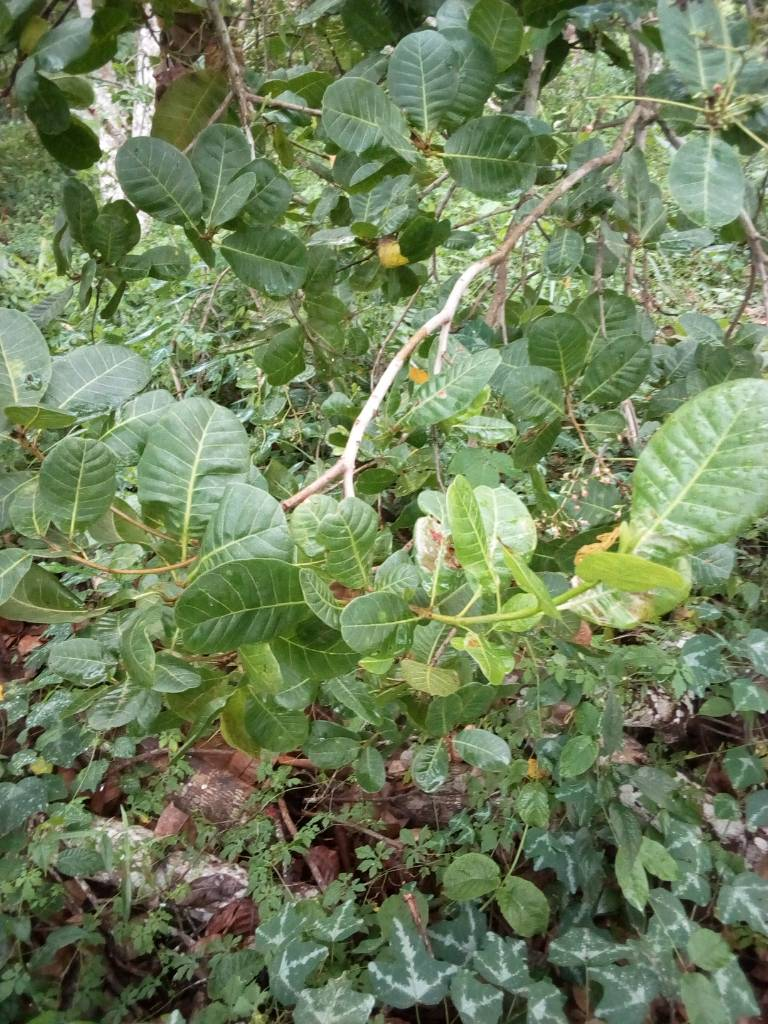Dysdercus wolkerii: (406, 494, 470, 611)
